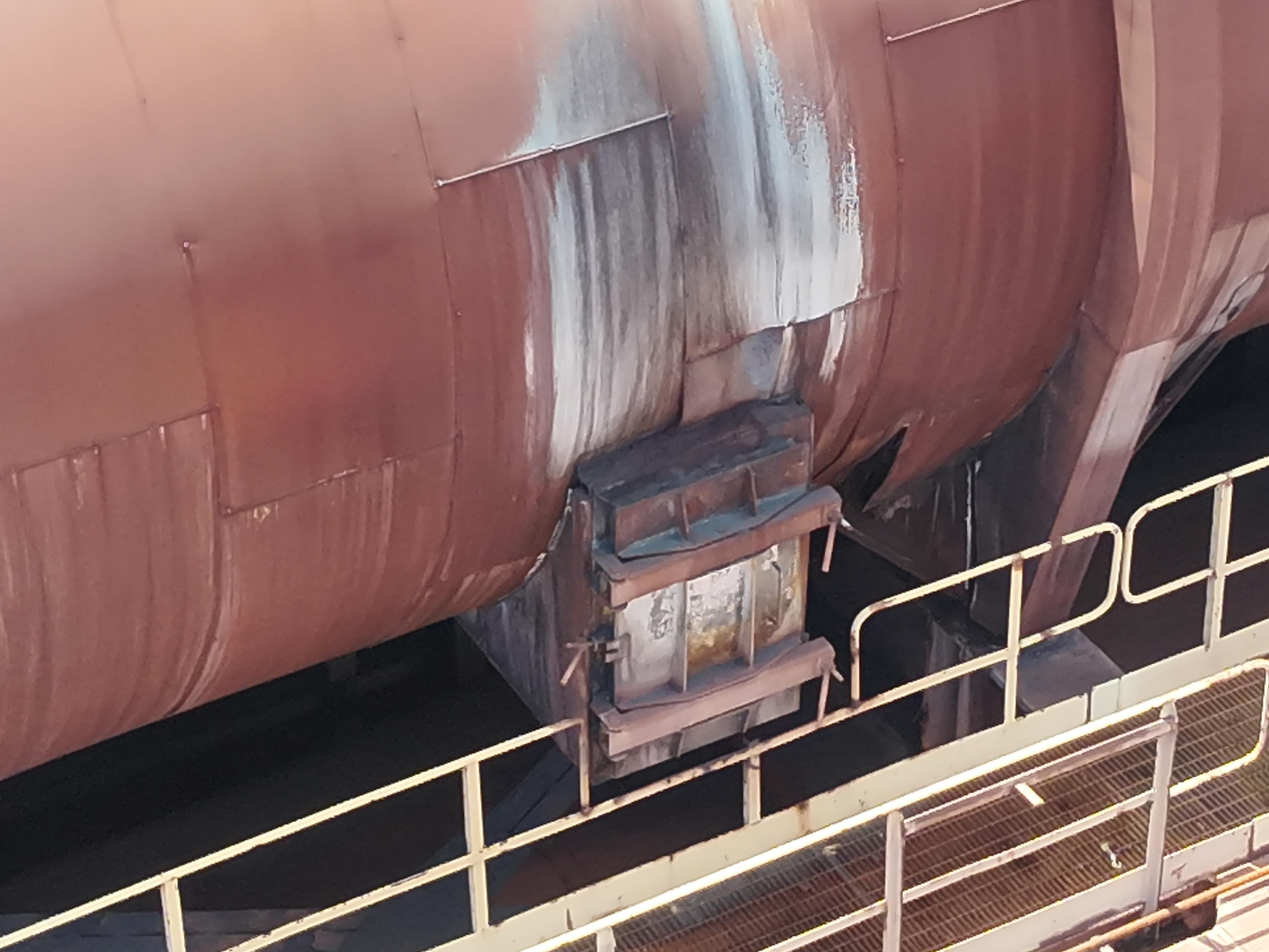Failures: (603, 262, 804, 706), (811, 409, 1050, 562)
